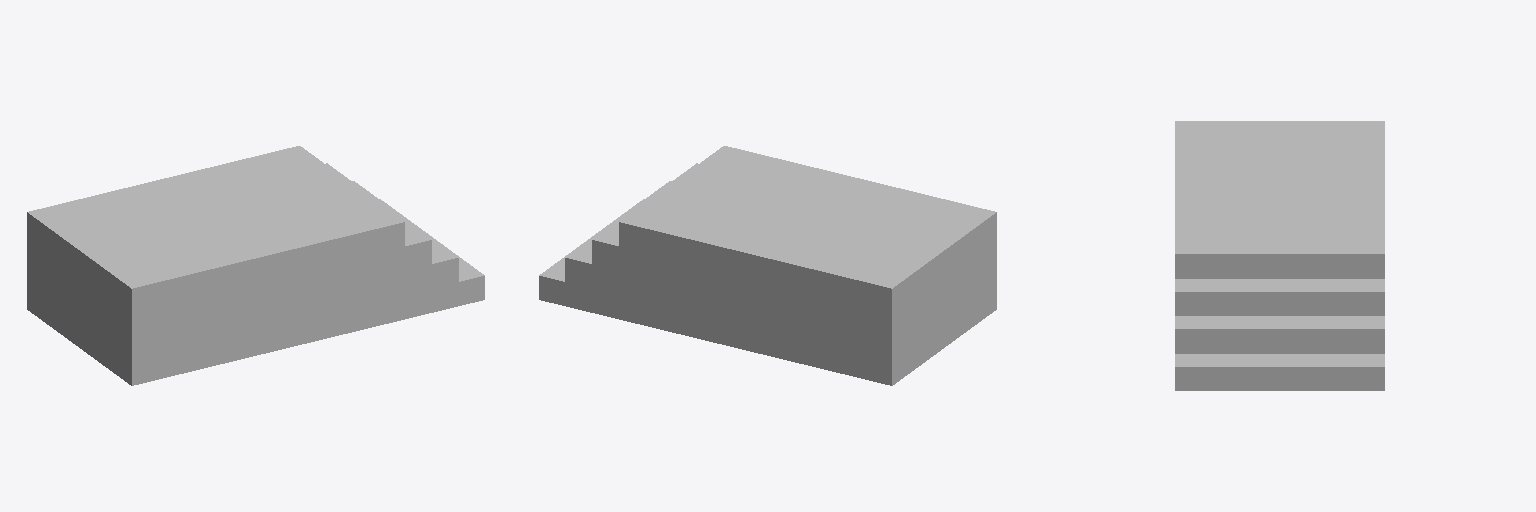
File: stairs 2.obj
3 renders of one model, left to right at view 1: azimuth 30°, elevation 25°; view 2: azimuth 150°, elevation 25°; view 3: azimuth 270°, elevation 25°, orthographic.
Parts seen in each view (by area): view 1: stairs; view 2: stairs; view 3: stairs.
Boxes of the visible parts, <box> form: stairs: <box>27,146,484,385</box>; stairs: <box>539,146,996,385</box>; stairs: <box>1175,121,1384,390</box>.
Size of the model in its own units: 84.14 by 22.17 by 43.2.